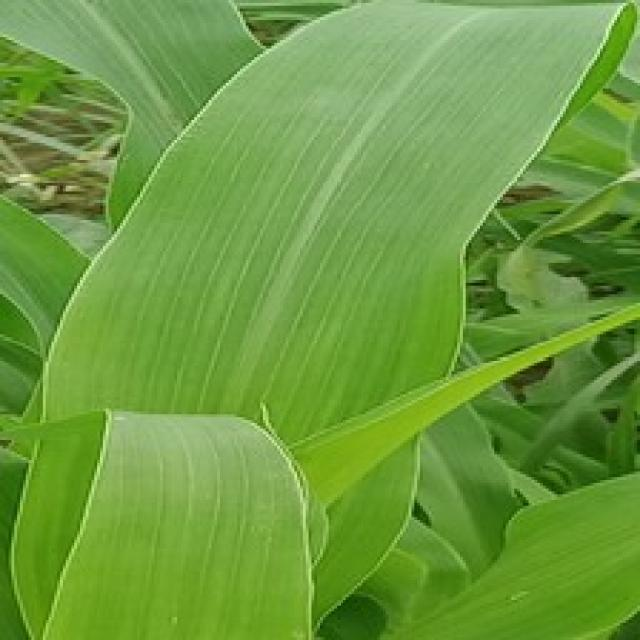Corn: (0, 0, 637, 637), (6, 406, 320, 637), (0, 0, 265, 231), (0, 148, 91, 428)
